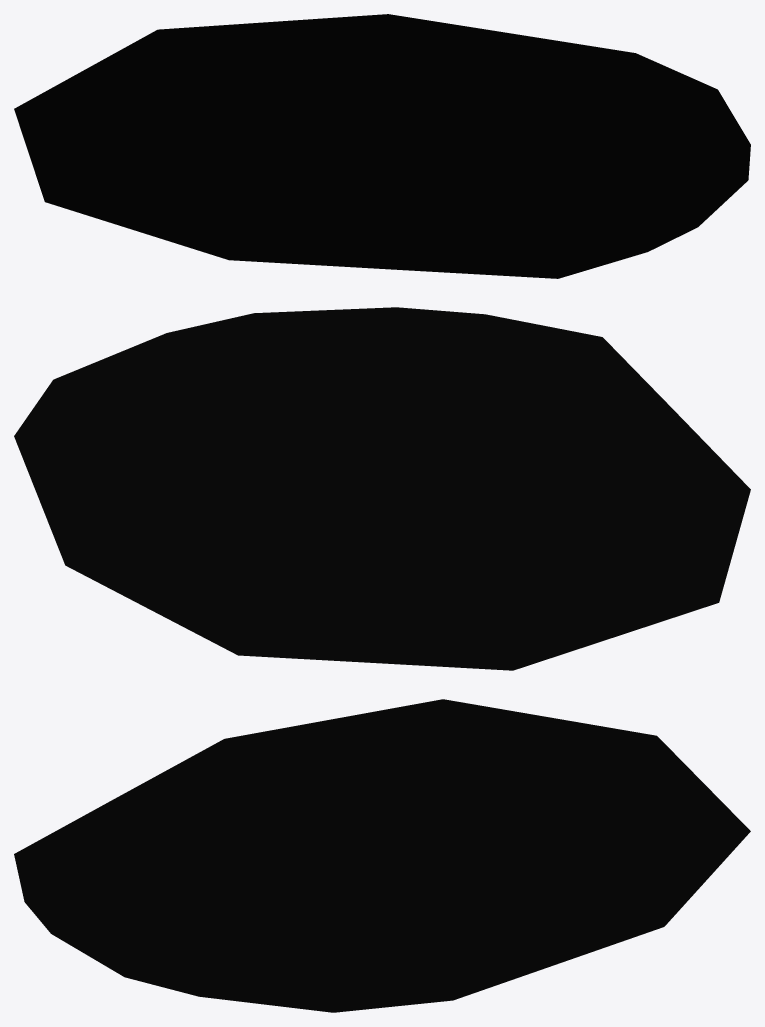
The picture shows the model from 3 angles, top to bottom: view 1: azimuth 30°, elevation 25°; view 2: azimuth 150°, elevation 25°; view 3: azimuth 270°, elevation 25°; orthographic projection. The views are drawn at different scales.
Visible parts, largest first — view 1: Joint_0_Object_0; view 2: Joint_0_Object_0; view 3: Joint_0_Object_0.
Part boxes in pixels (box(x1,y1,x2,y2)): Joint_0_Object_0: box(14, 14, 750, 278); Joint_0_Object_0: box(14, 307, 750, 670); Joint_0_Object_0: box(14, 699, 750, 1012).
Size of the model in its own units: 343 by 0 by 340.
Materials: 1 (1 with a texture image).
